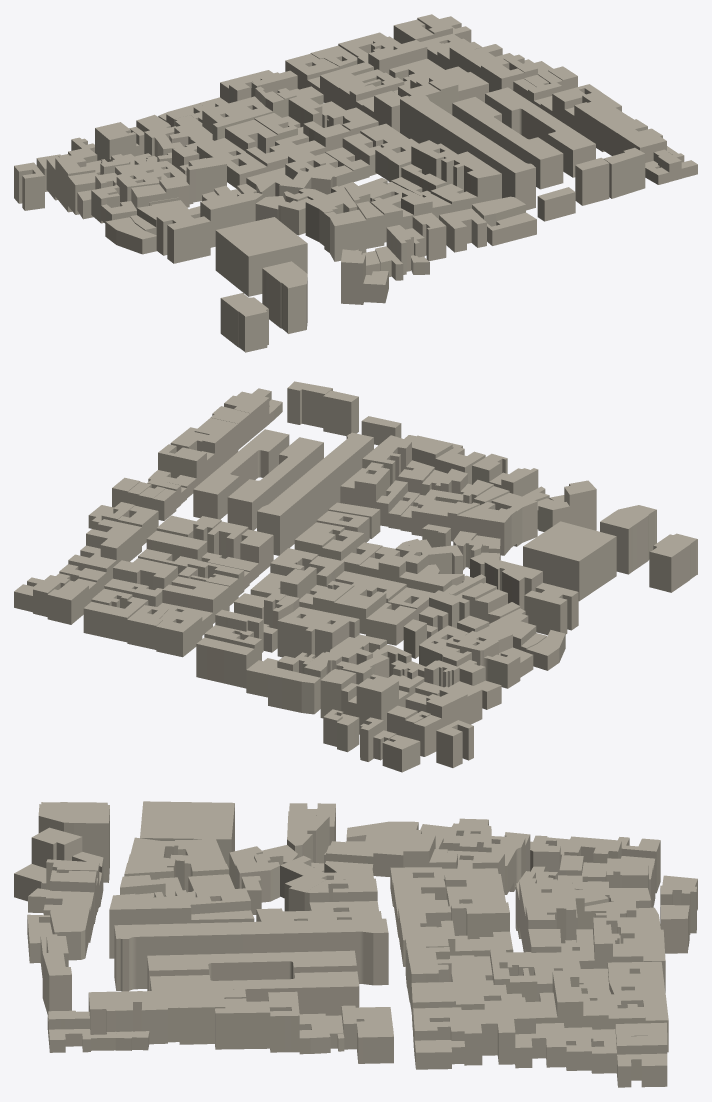
The model's file is bormla_61_29_far.glb.
3 views of the same model, one above another, from view 1: azimuth 30°, elevation 25°; view 2: azimuth 150°, elevation 25°; view 3: azimuth 270°, elevation 25° (orthographic). The views are drawn at different scales.
Parts seen in each view (by area): view 1: geometry_0; view 2: geometry_0; view 3: geometry_0.
Part boxes in pixels (<box>): geometry_0: <box>14,14,697,352</box>; geometry_0: <box>14,381,697,772</box>; geometry_0: <box>14,801,697,1087</box>.
Size of the model in its own units: 186 by 48.13 by 187.
